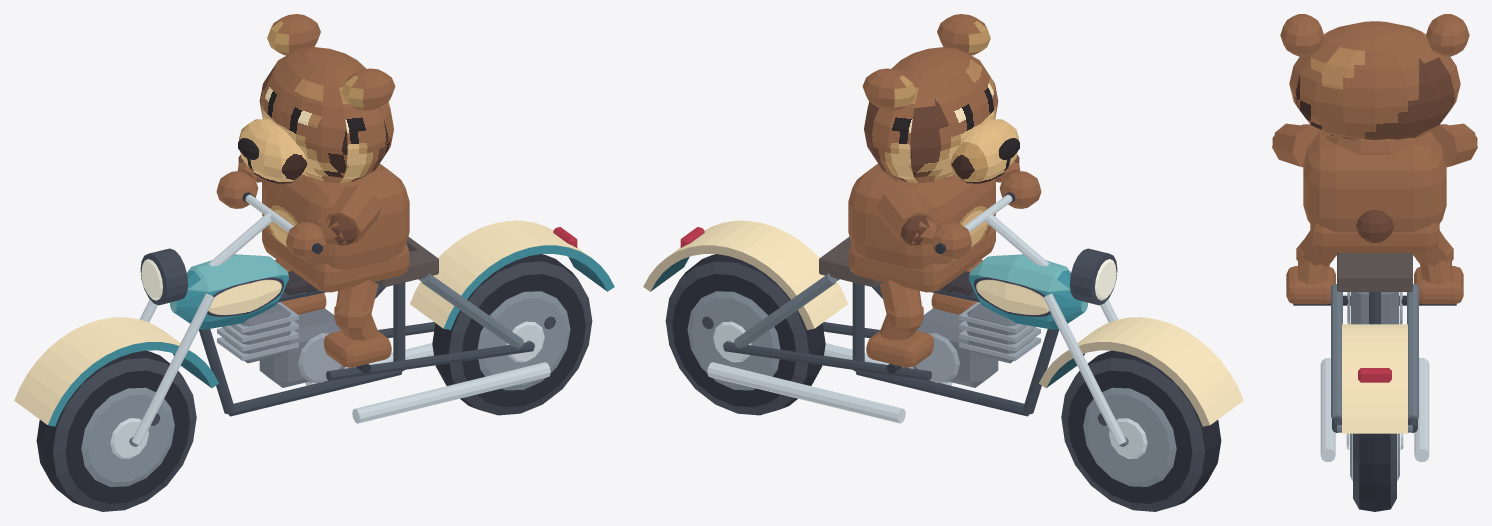
3 renders of one model, left to right at view 1: azimuth 30°, elevation 25°; view 2: azimuth 150°, elevation 25°; view 3: azimuth 270°, elevation 25°, orthographic. The views are drawn at different scales.
Parts seen in each view (by area): view 1: Body_static, RiderBear:Bear_static_seated, Wheel_F_tire_hub, Wheel_R_tire_hub; view 2: Body_static, RiderBear:Bear_static_seated, Wheel_F_tire_hub, Wheel_R_tire_hub; view 3: RiderBear:Bear_static_seated, Body_static, Wheel_R_tire_hub.
Boxes of the visible parts, x1,y1,x2,y2 form: Body_static: (14,192,614,446); RiderBear:Bear_static_seated: (216,14,409,367); Wheel_F_tire_hub: (36,350,196,511); Wheel_R_tire_hub: (432,254,592,415); Body_static: (643,192,1243,446); RiderBear:Bear_static_seated: (848,14,1041,367); Wheel_F_tire_hub: (1061,350,1221,511); Wheel_R_tire_hub: (665,254,825,415); RiderBear:Bear_static_seated: (1272,14,1477,304); Body_static: (1293,253,1456,461); Wheel_R_tire_hub: (1346,433,1403,511).
Size of the model in its own units: 55.84 by 38.62 by 17.96.
2 materials, 2 textured.
